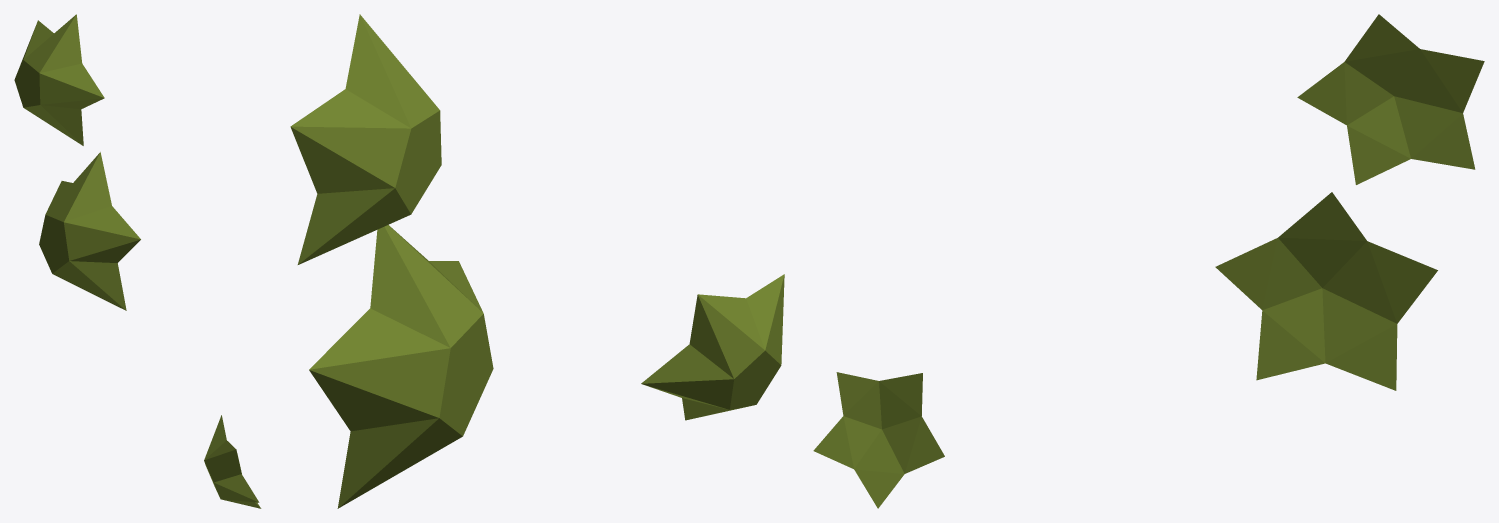
3 views of the same model, side by side, from view 1: azimuth 30°, elevation 25°; view 2: azimuth 150°, elevation 25°; view 3: azimuth 270°, elevation 25° (orthographic). The views are drawn at different scales.
Parts seen in each view (by area): view 1: Box15955_green2_0, Box15966_green2_0, Box15951_green2_0; view 2: Box15955_green2_0, Box15966_green2_0, Box15951_green2_0; view 3: Box15955_green2_0, Box15966_green2_0, Box15951_green2_0.
Part boxes in pixels (x1,y1,x2,y2): Box15955_green2_0: [39, 152, 140, 310]; Box15966_green2_0: [14, 14, 104, 145]; Box15951_green2_0: [204, 415, 261, 508]; Box15955_green2_0: [309, 225, 493, 508]; Box15966_green2_0: [290, 14, 441, 264]; Box15951_green2_0: [641, 274, 784, 420]; Box15955_green2_0: [1215, 192, 1437, 390]; Box15966_green2_0: [1297, 14, 1484, 184]; Box15951_green2_0: [813, 372, 944, 508].
Size of the model in its own units: 60.06 by 369 by 455.
